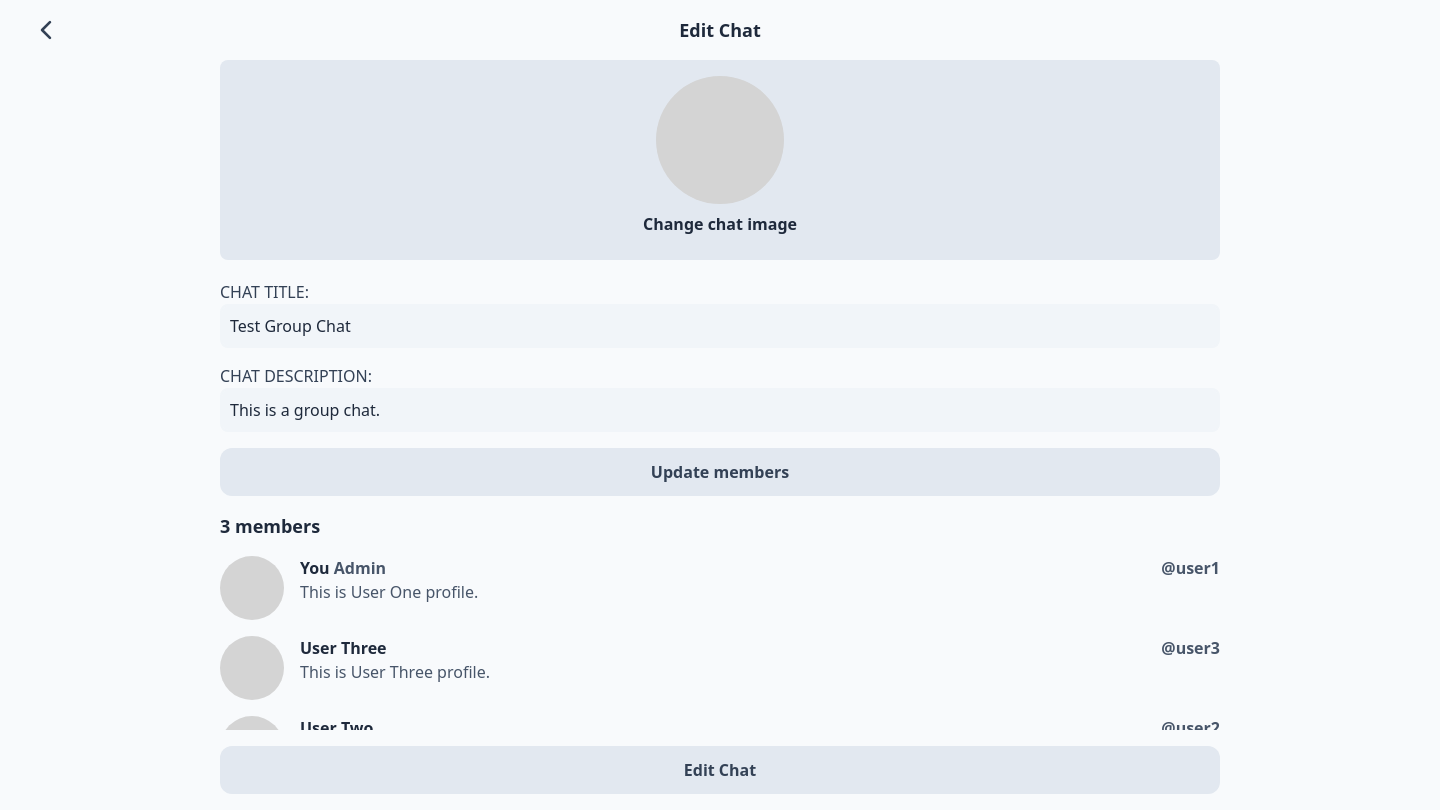
Test: <EditGroupChat /> › displays update members modal on button click
Click the button with test id "update-group-chat-members-button" at (720, 472), box [220, 448, 1220, 496]
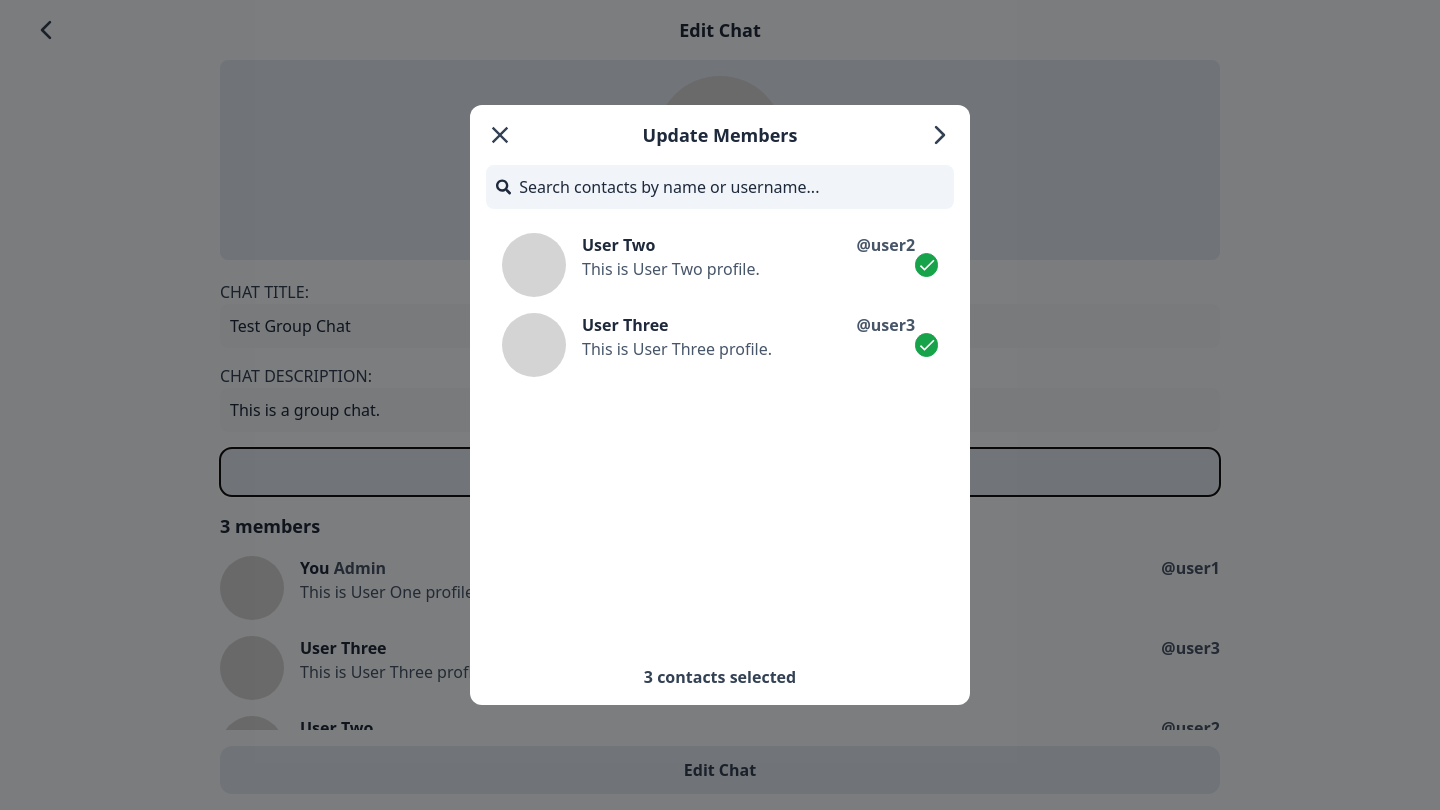
Expected: the element with test id "update-members-modal" is shown, [470, 105, 970, 705]
Expected: the heading "Update Members" is shown, [643, 121, 797, 149]
